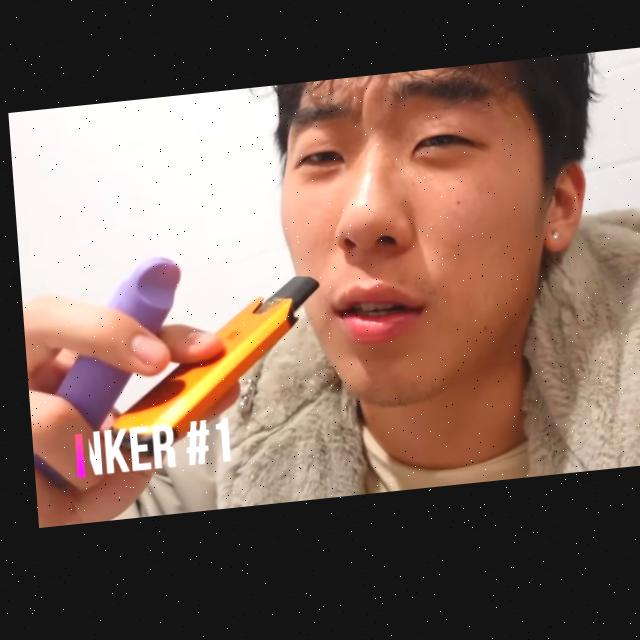vape: (95, 278, 324, 457), (16, 258, 189, 494)
